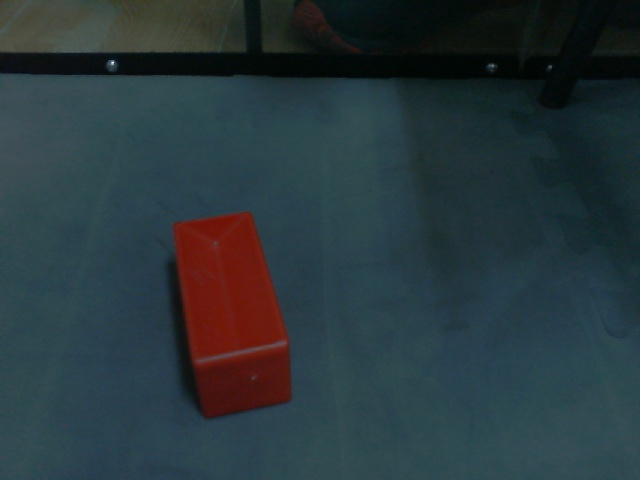RedSample: (170, 208, 295, 420)
